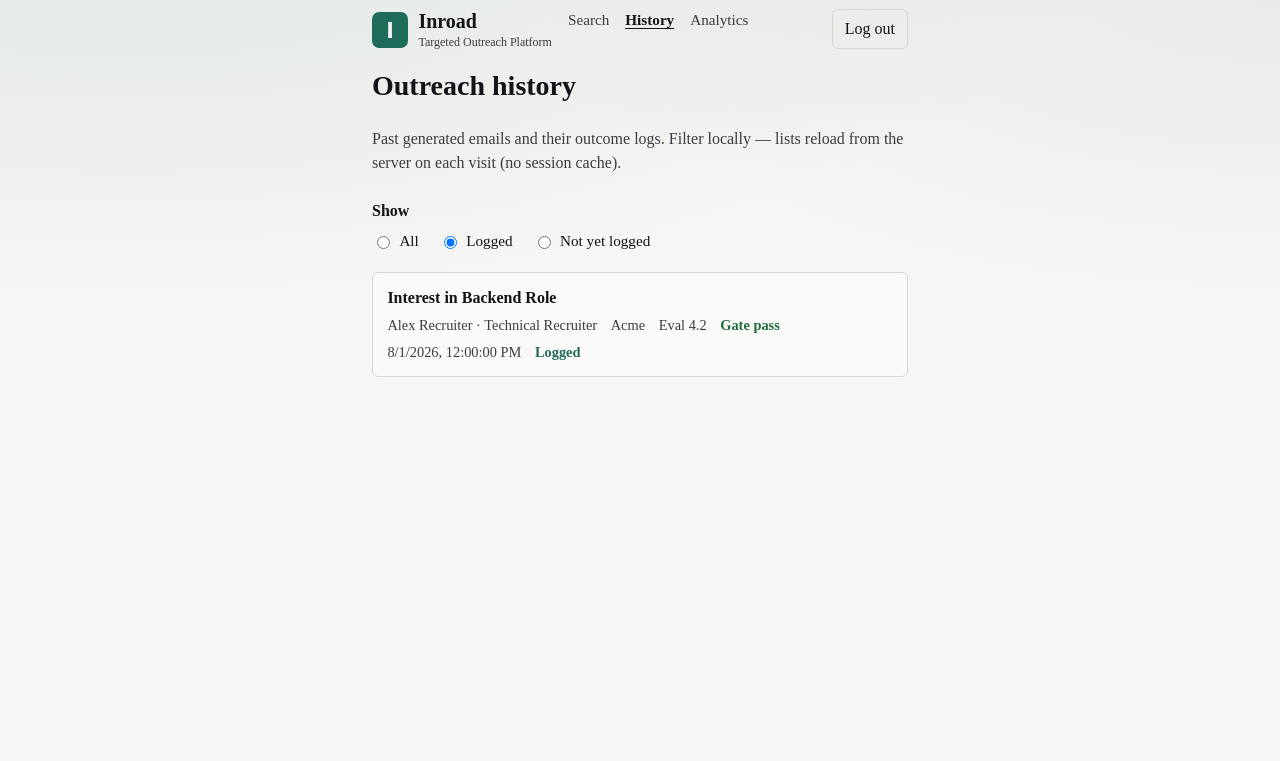
HistoryPage › retract removes timeline entry and drops row from default Logged filter when last
Click the text "Interest in Backend Role". click: (472, 297)
box: [387, 289, 556, 306]
(page scrolled)
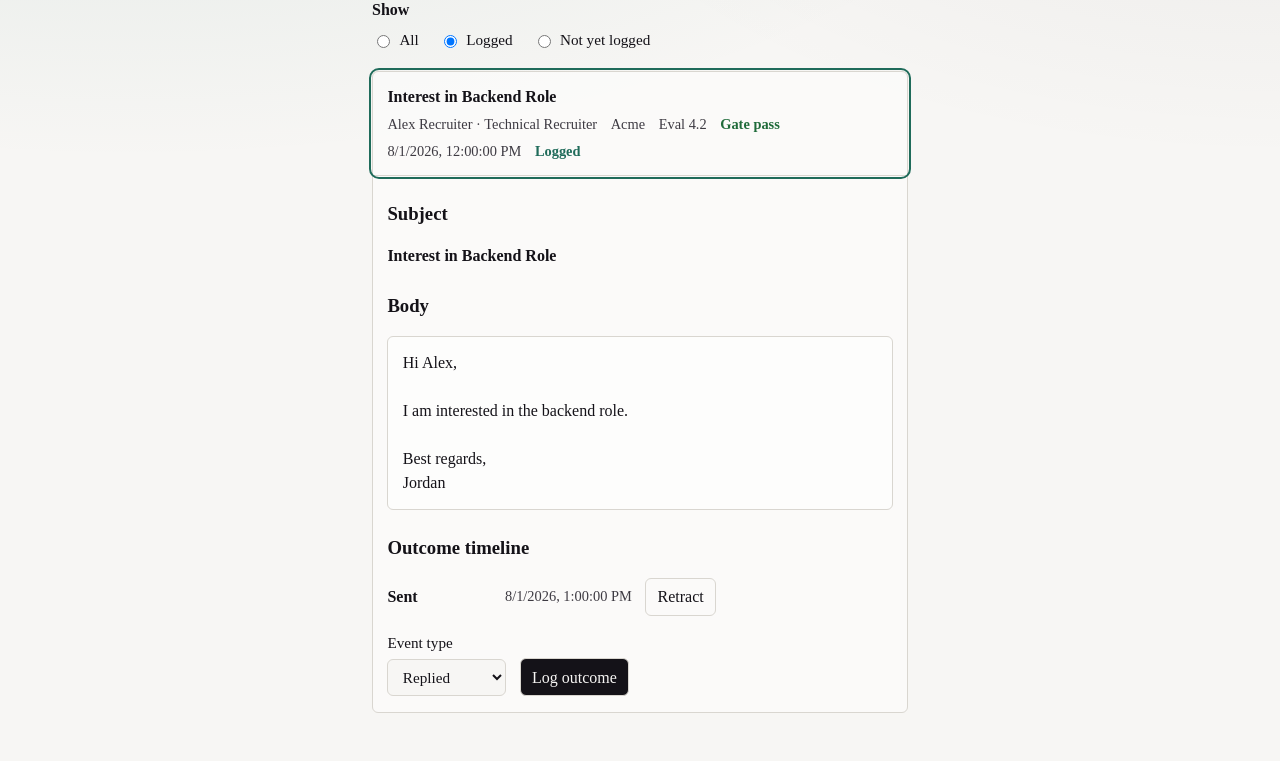
Now the text "I am interested in the backend role" is shown, box [403, 354, 628, 491]
Now the text "Outcome timeline" is shown, box [387, 537, 529, 558]
Now the text "Sent" is shown, box [387, 588, 418, 605]
Click the button "Retract". click: (681, 597)
box: [645, 578, 716, 616]
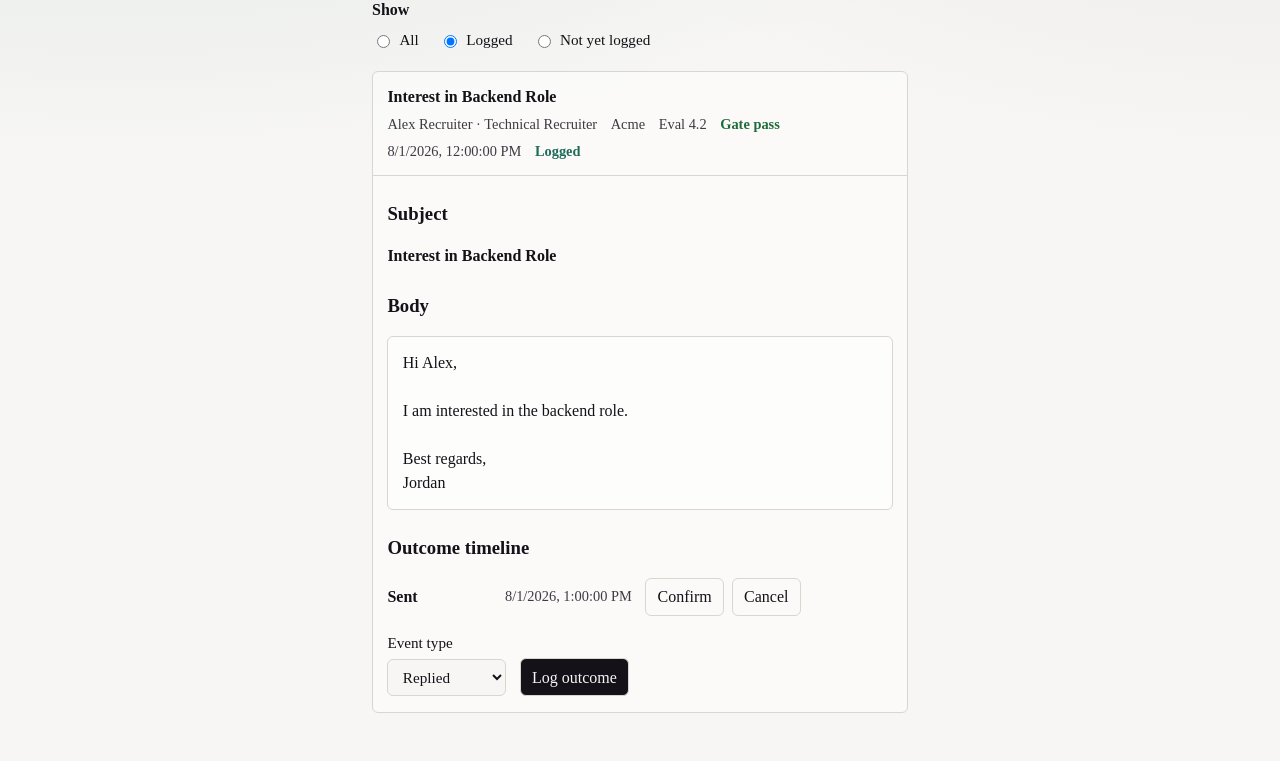
Click the button "Confirm". click: (685, 597)
box: [645, 578, 724, 616]
(page scrolled)
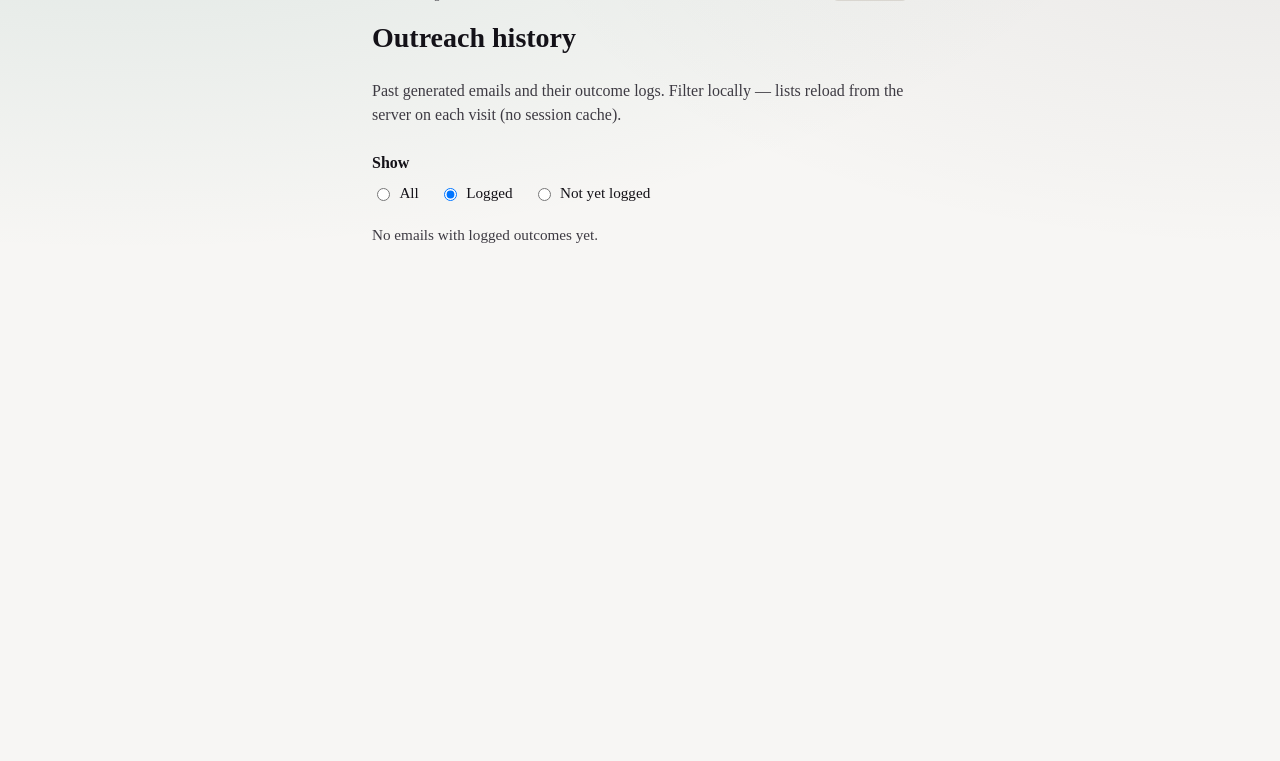
Expected: the radio button labelled "Logged" is checked, [444, 188, 457, 201]
Now the button "Interest in Backend Role" is gone
Now the text "No emails with logged outcomes yet." is shown, box [372, 226, 598, 243]
